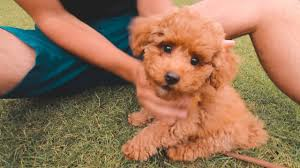Poodle: (114, 9, 276, 167)
